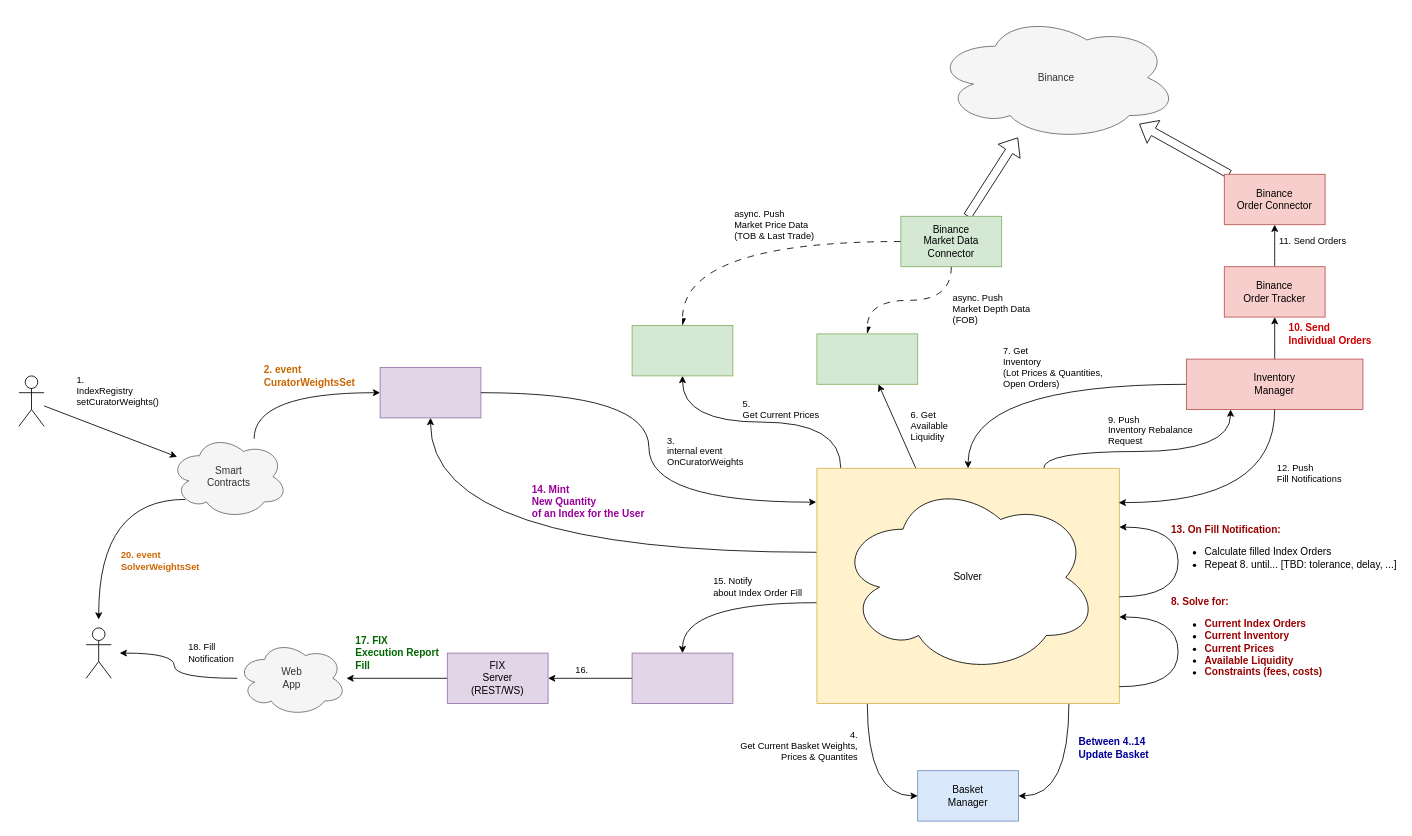
Some shapes in this 1412 by 836 pixel diagram are drawn without their labels. Each missing label, with the centre of its shape:
"Binance Price Tracker" belongs at point (682, 350).
"Curator" belongs at point (31, 400).
"EVM Connector" belongs at point (430, 392).
"Index Order Manager" belongs at point (682, 678).
"Order Book Manager" belongs at point (867, 358).
"User" belongs at point (98, 652).
